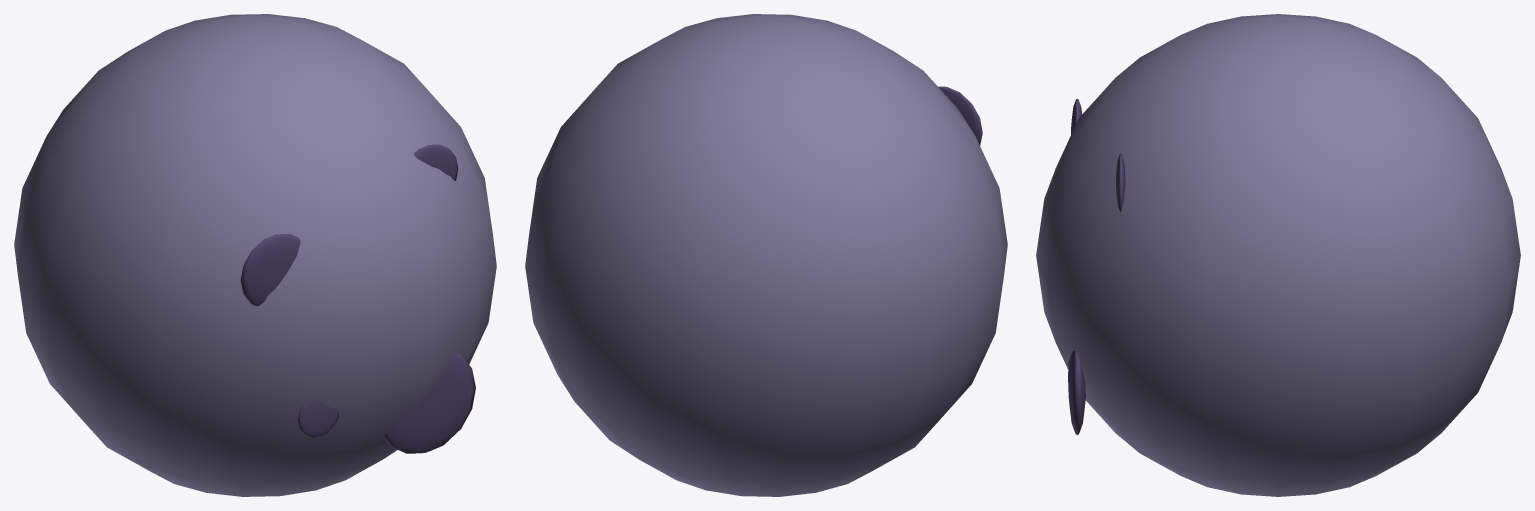
File: planet-moon-lod1.glb
3 views of the same model, side by side, from view 1: azimuth 30°, elevation 25°; view 2: azimuth 150°, elevation 25°; view 3: azimuth 270°, elevation 25° (orthographic).
Parts seen in each view (by area): view 1: shell; view 2: shell; view 3: shell.
Part boxes in pixels (x1=…): shell: x1=14, y1=14, x2=496, y2=496; shell: x1=525, y1=14, x2=1007, y2=496; shell: x1=1036, y1=14, x2=1520, y2=496.
Bounding box in the file's own units: 2 × 2 × 2.
